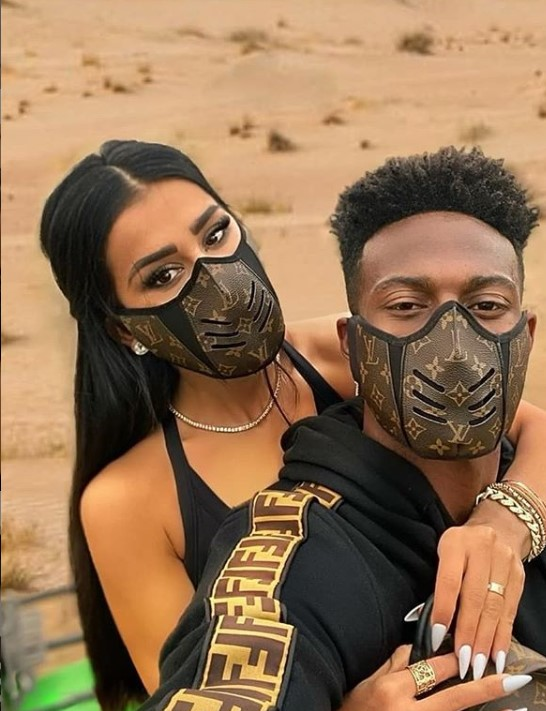face_with_mask: (331, 150, 538, 462), (43, 138, 284, 374)
